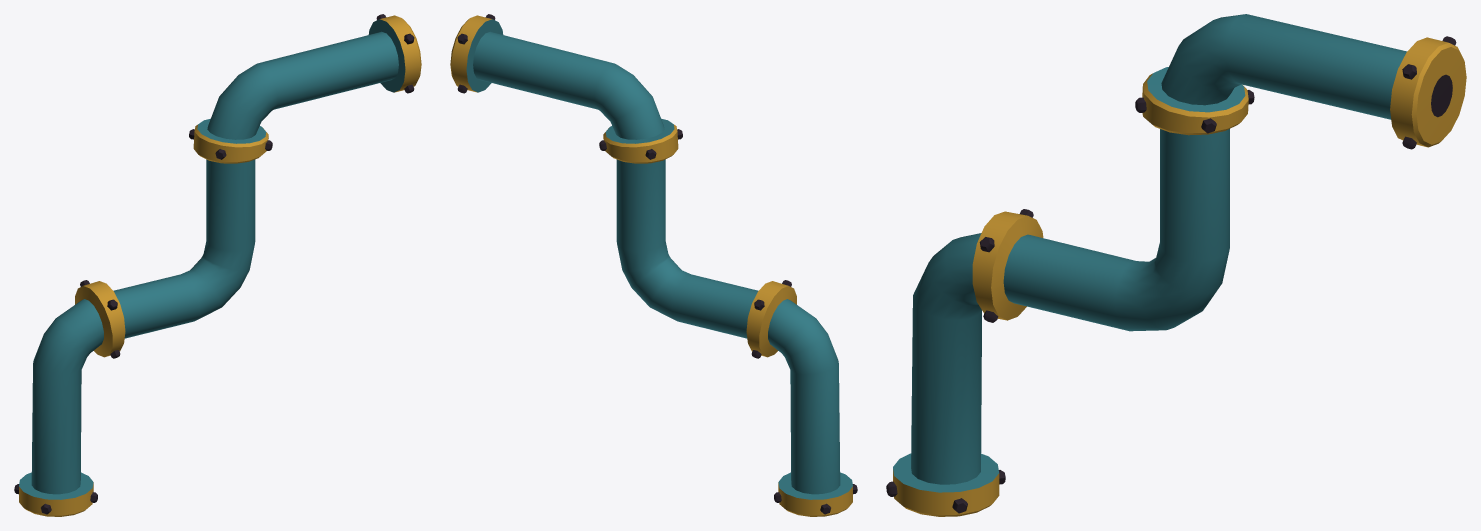
The model's file is PipeRun_07.glb.
3 views of the same model, side by side, from view 1: azimuth 30°, elevation 25°; view 2: azimuth 150°, elevation 25°; view 3: azimuth 330°, elevation 25° (orthographic). The views are drawn at different scales.
Visible parts, largest first — view 1: PipeRun_07; view 2: PipeRun_07; view 3: PipeRun_07.
Part boxes in pixels (left/top/right/bottom): PipeRun_07: left=14, top=14, right=421, bottom=516; PipeRun_07: left=450, top=14, right=857, bottom=516; PipeRun_07: left=886, top=14, right=1466, bottom=516.
Bounding box in the file's own units: 6.49 × 6.52 × 1.11.
